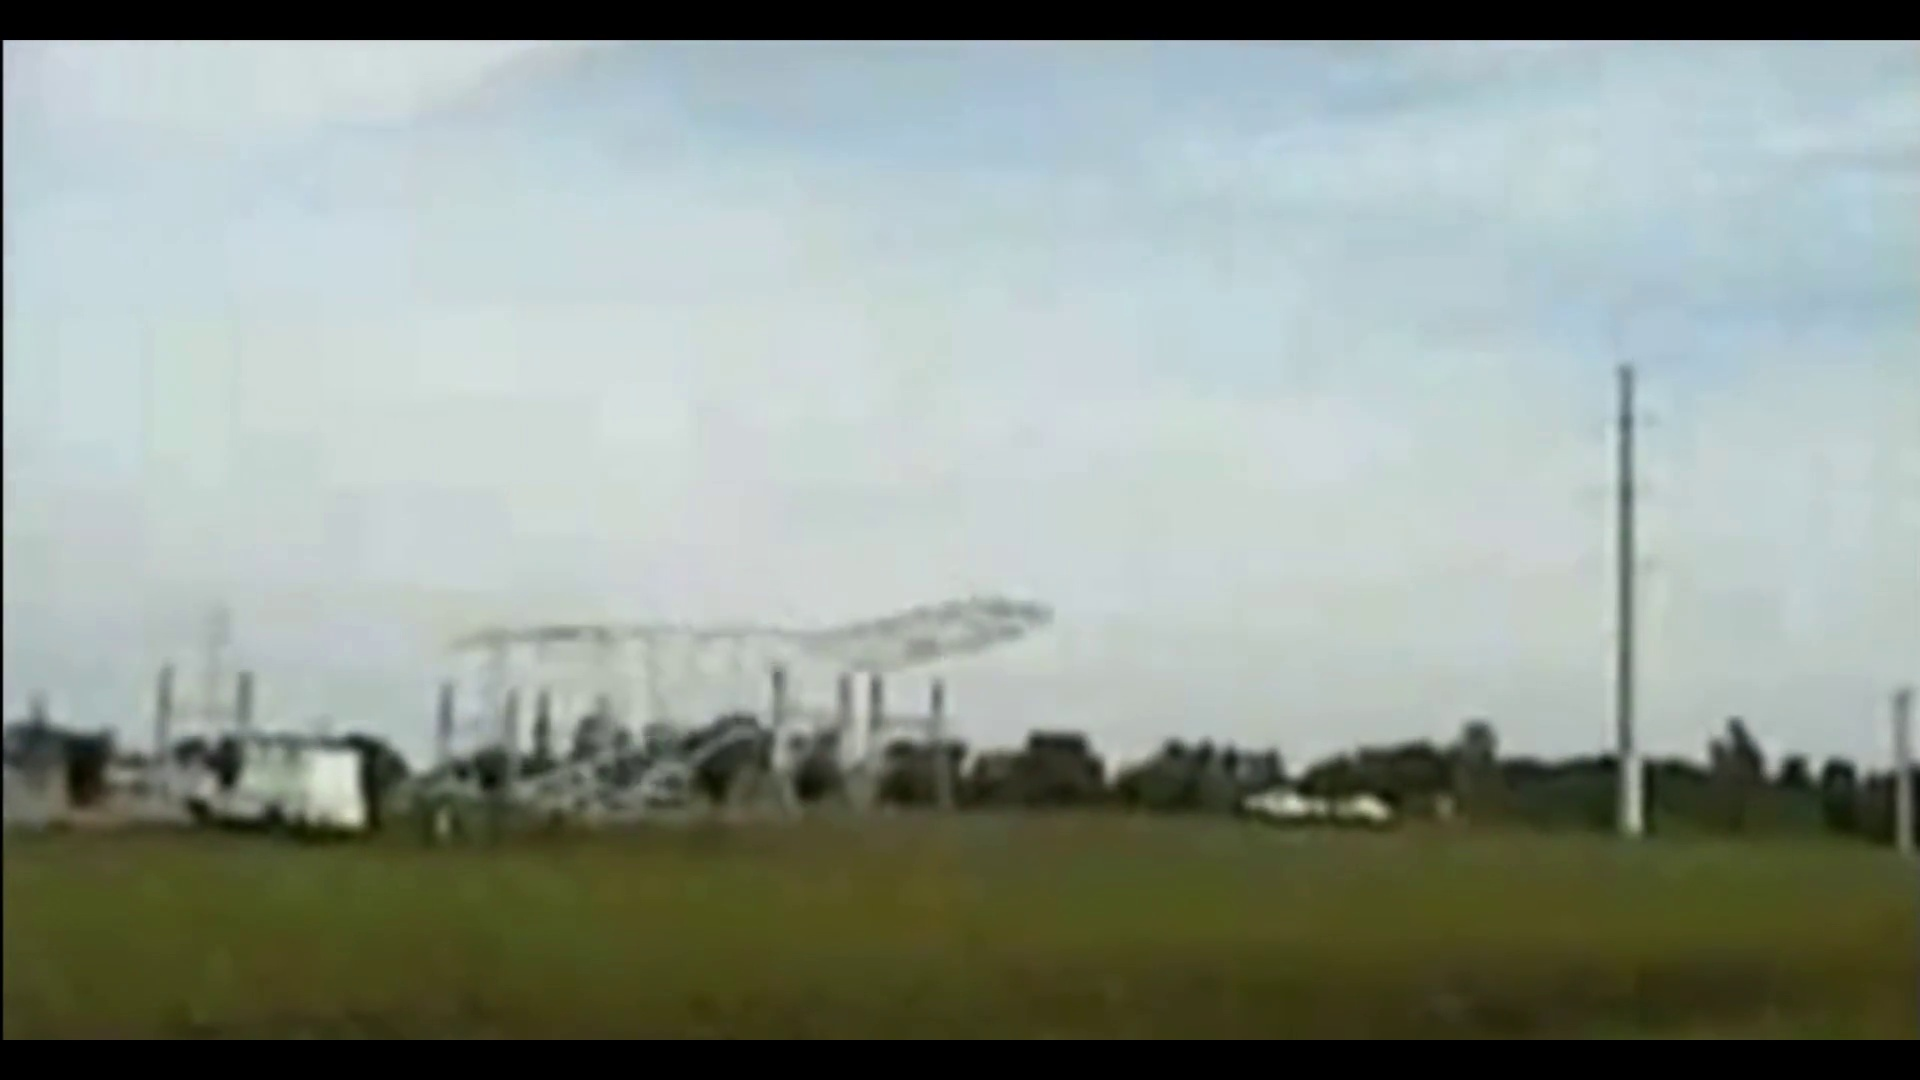tower_down: (472, 546, 1059, 742)
